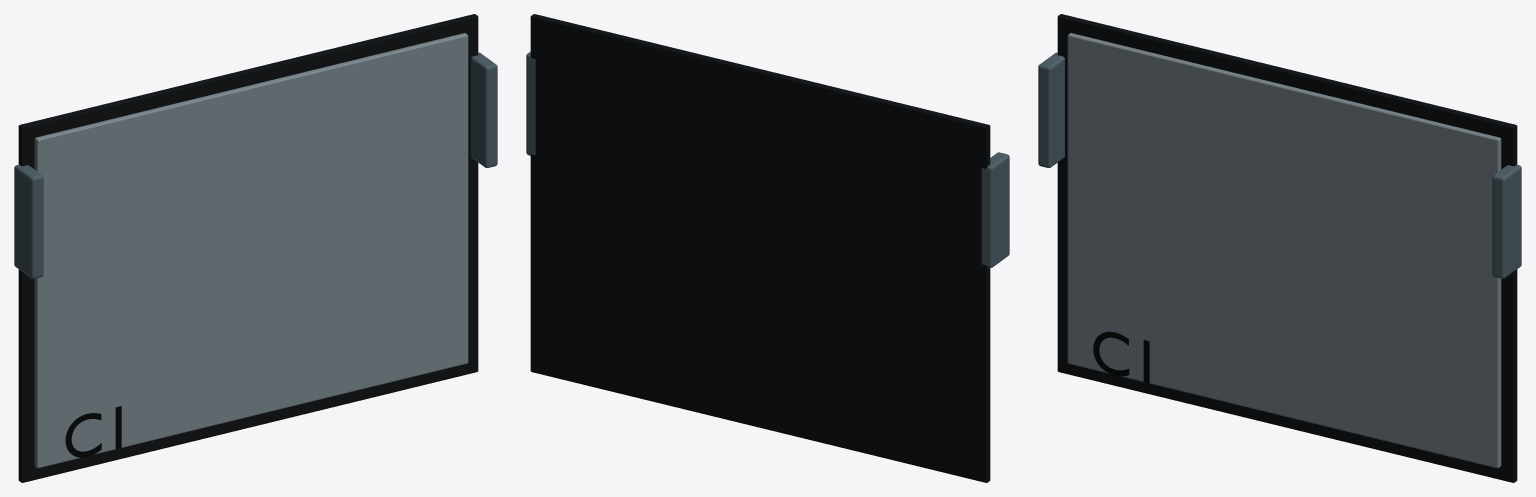
Rendered from slot_c1.obj.
3 renders of one model, left to right at view 1: azimuth 30°, elevation 25°; view 2: azimuth 150°, elevation 25°; view 3: azimuth 330°, elevation 25°, orthographic.
Visible parts, largest first — view 1: flex__slot_c1__insert, flex__slot_c1__recess, flex__slot_c1__locator, flex__slot_c1__locator.001, flex__slot_c1__id; view 2: flex__slot_c1__recess, flex__slot_c1__locator, flex__slot_c1__locator.001; view 3: flex__slot_c1__insert, flex__slot_c1__recess, flex__slot_c1__locator.001, flex__slot_c1__locator, flex__slot_c1__id.
Part boxes in pixels (bbox=[...]): flex__slot_c1__insert: bbox=[34, 33, 468, 468]; flex__slot_c1__recess: bbox=[18, 14, 478, 482]; flex__slot_c1__locator: bbox=[14, 164, 43, 278]; flex__slot_c1__locator.001: bbox=[471, 52, 497, 167]; flex__slot_c1__id: bbox=[65, 406, 121, 457]; flex__slot_c1__recess: bbox=[530, 14, 990, 482]; flex__slot_c1__locator: bbox=[981, 152, 1009, 267]; flex__slot_c1__locator.001: bbox=[526, 51, 535, 155]; flex__slot_c1__insert: bbox=[1067, 33, 1501, 468]; flex__slot_c1__recess: bbox=[1057, 14, 1517, 482]; flex__slot_c1__locator.001: bbox=[1492, 164, 1521, 278]; flex__slot_c1__locator: bbox=[1038, 52, 1064, 167]; flex__slot_c1__id: bbox=[1093, 331, 1149, 382].
Size of the model in its own units: 0.144 by 0.105 by 0.01.
